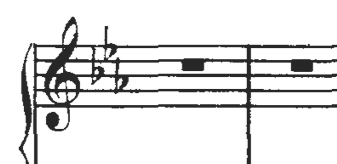flat: (98, 20, 121, 68), (110, 55, 132, 98), (87, 45, 106, 88)
treble_clef: (36, 7, 88, 139)
